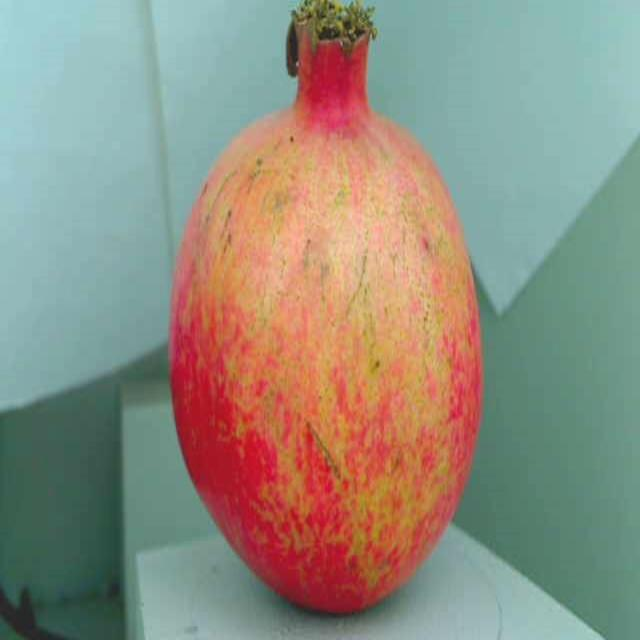pomegranate: (154, 0, 495, 640)
